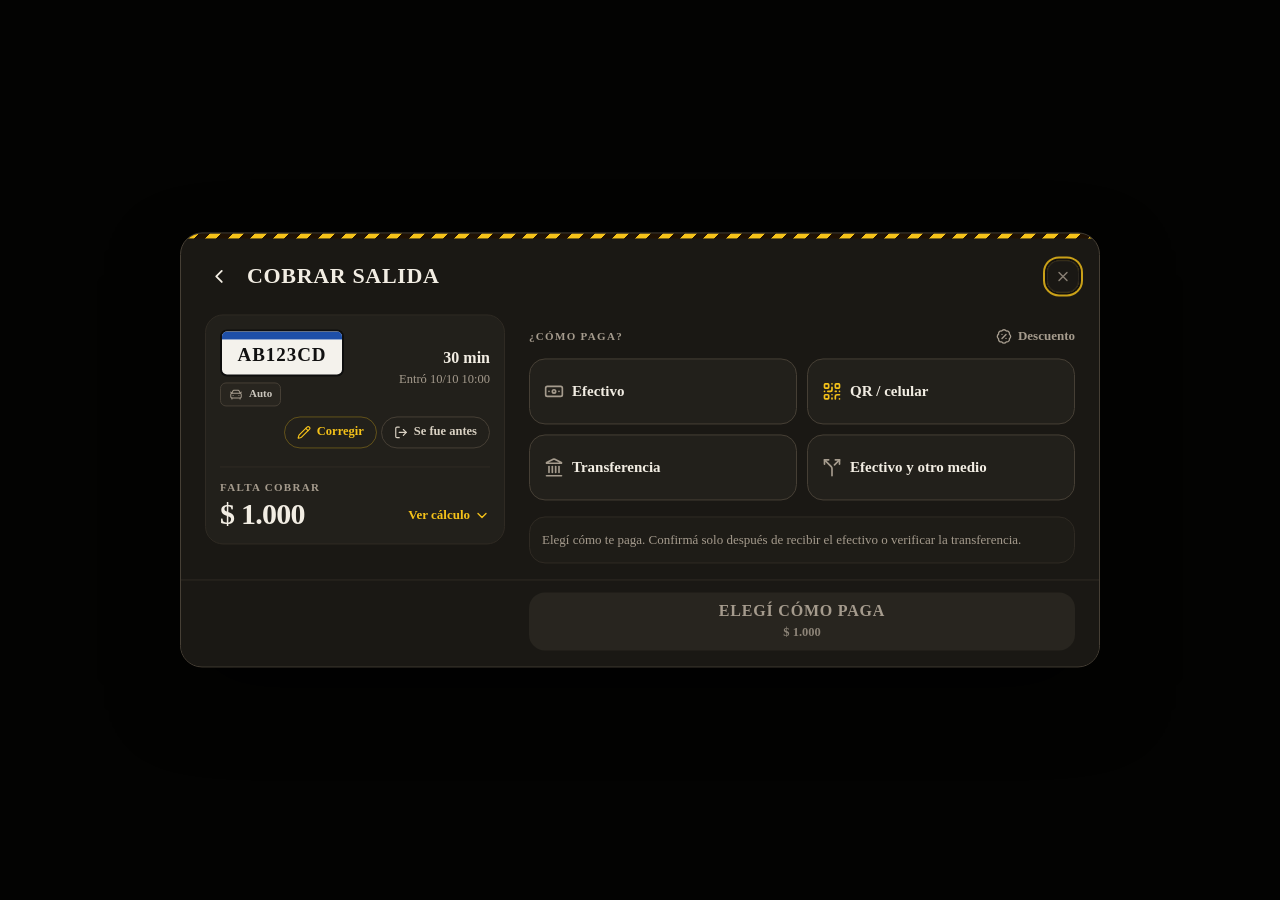
el cálculo se despliega sin ocultar los medios de pago
Expected: the button named "Efectivo Contalo" is enabled, [529,358,797,424]
Expected: the text "Se usa el precio de la hora" is not shown
Click the button "Ver cálculo": (449, 515) [404,493,494,537]
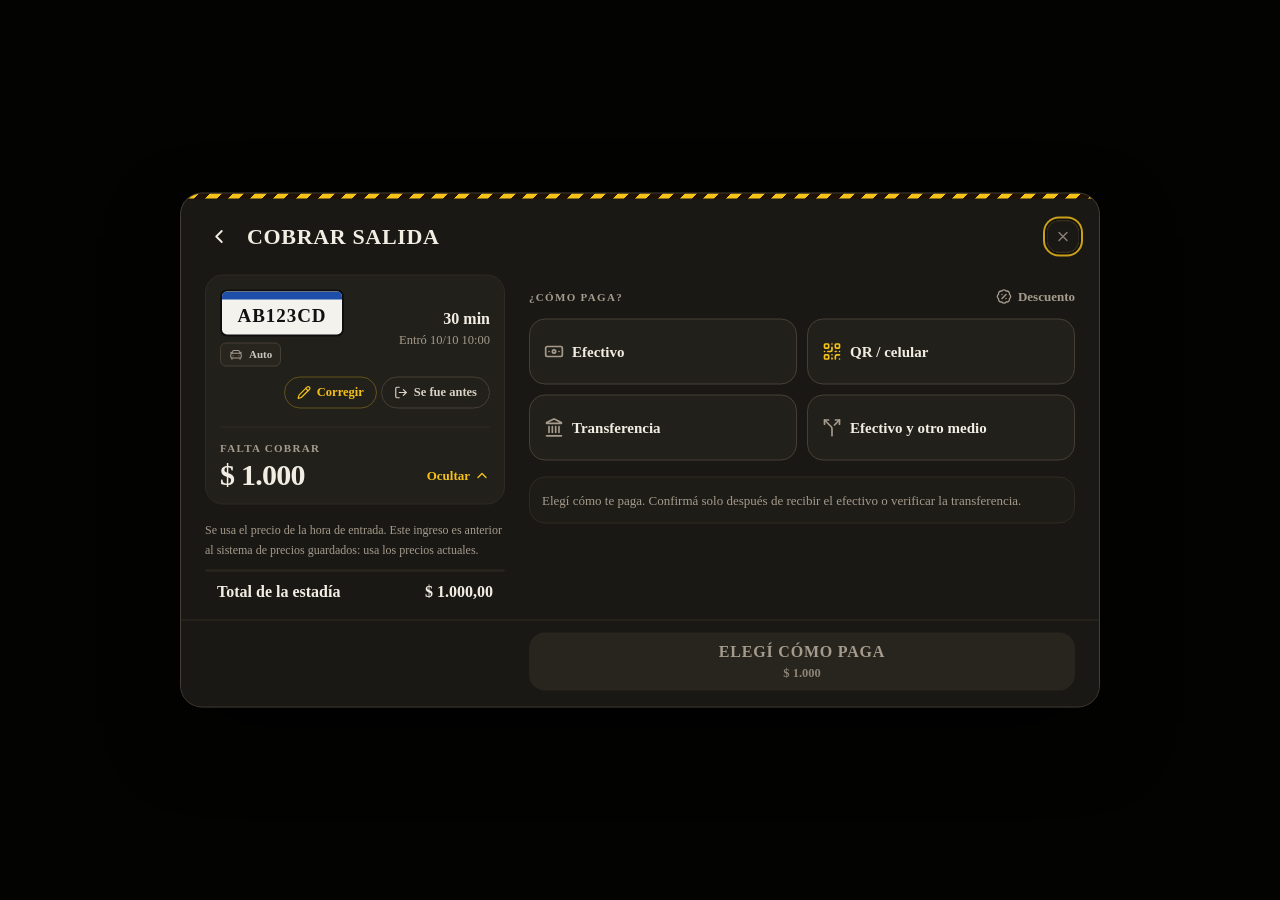
Expected: the button named "Efectivo Contalo" is shown, [529,318,797,384]
Now the button named "Ver cálculo" is expanded
Now the text "Se usa el precio de la hora" is shown, box [205,522,387,536]
Click the button named "Ver cálculo": (458, 476) [423,454,494,498]
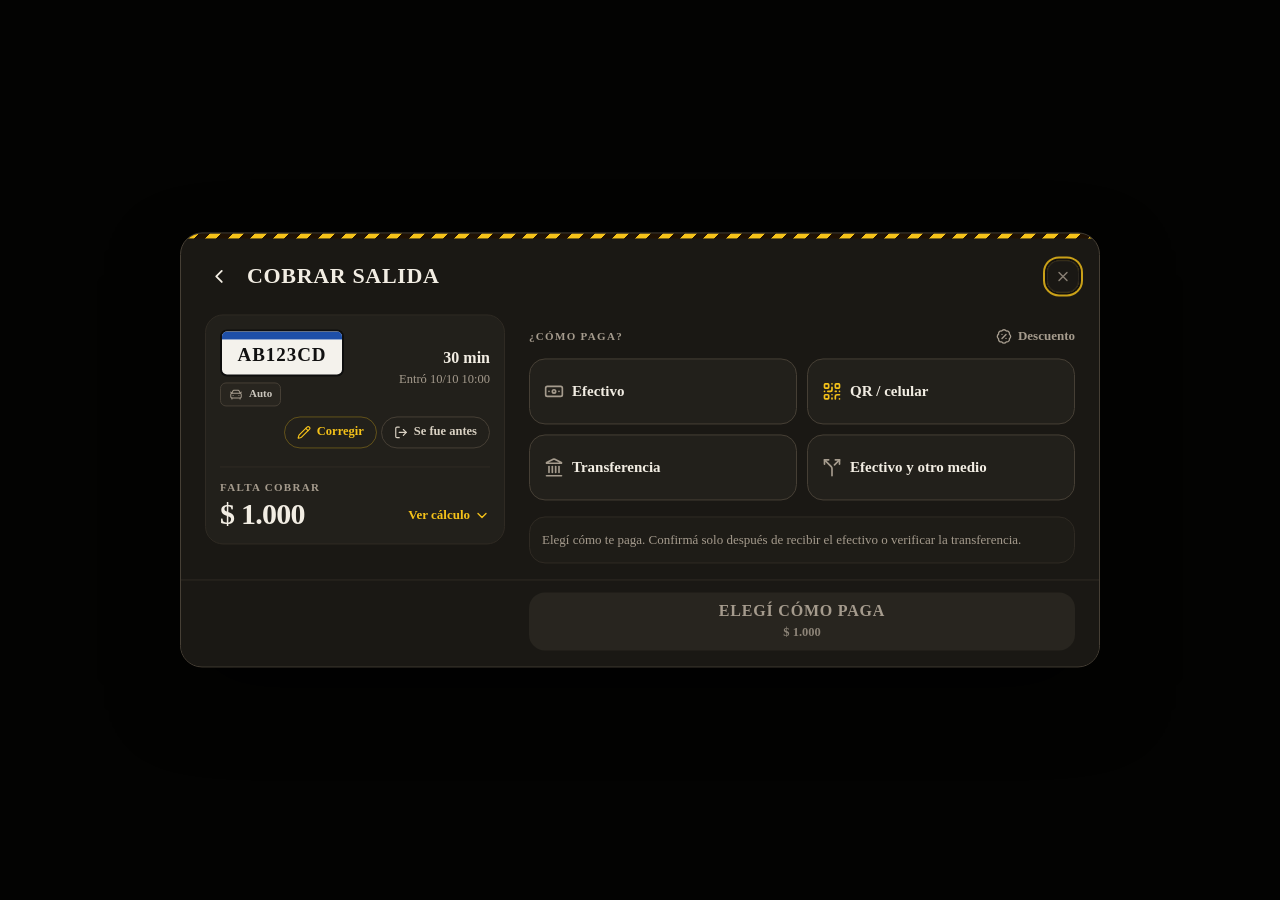
Now the text "Se usa el precio de la hora" is gone
